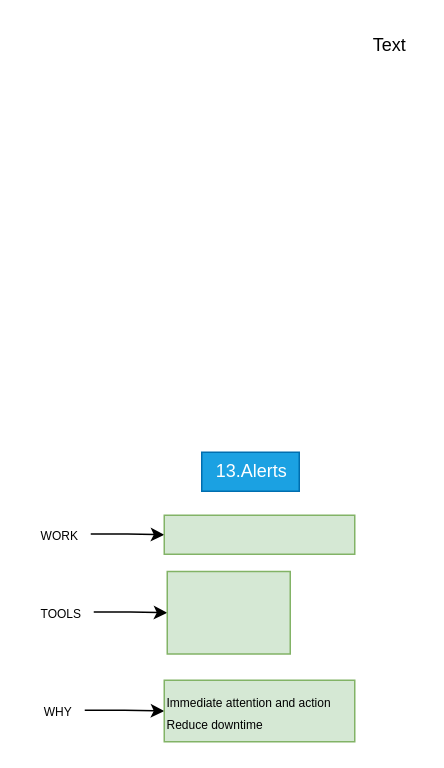
The diagram is 444 pixels wide and 768 high, and some of its shapes have lost their labels. The centre of each missing label's shape, as x and y in pixels:
"GCP alert policies Cloud watch SNS" goes at pixel 228 612.
"Sending notfications to admins" goes at pixel 259 534.
